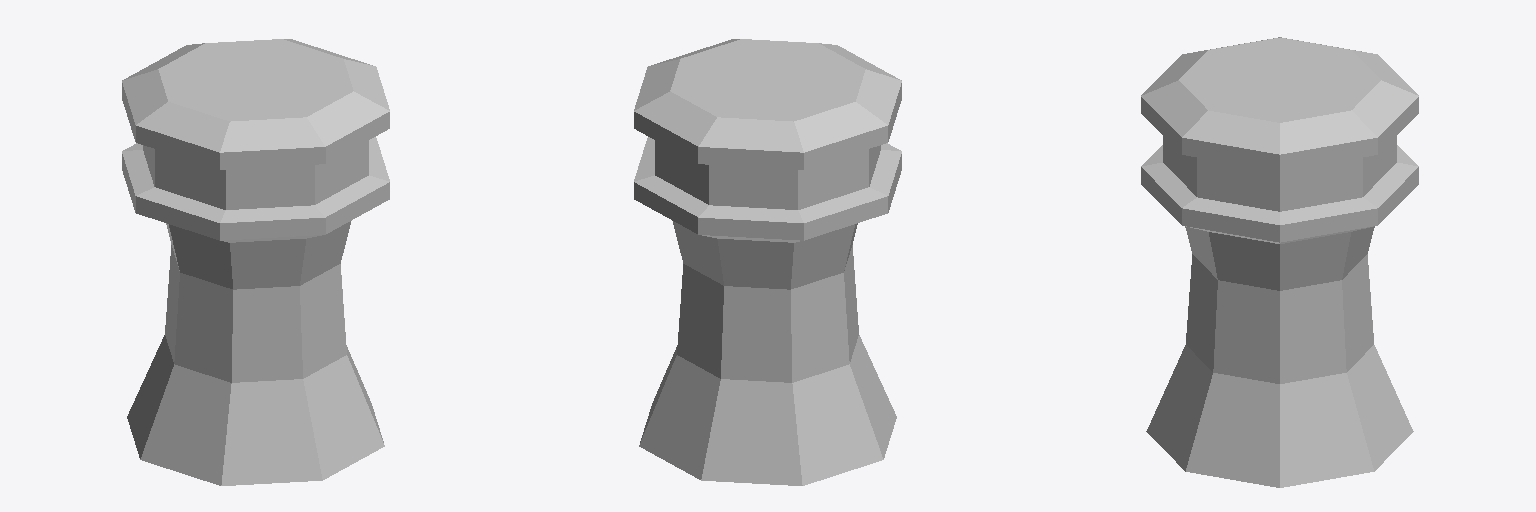
The model's file is weirdThingy_metal.obj.
The picture shows the model from 3 angles: view 1: azimuth 30°, elevation 25°; view 2: azimuth 150°, elevation 25°; view 3: azimuth 270°, elevation 25°; orthographic projection.
Size of the model in its own units: 0.8305 by 1.16 by 0.8305.